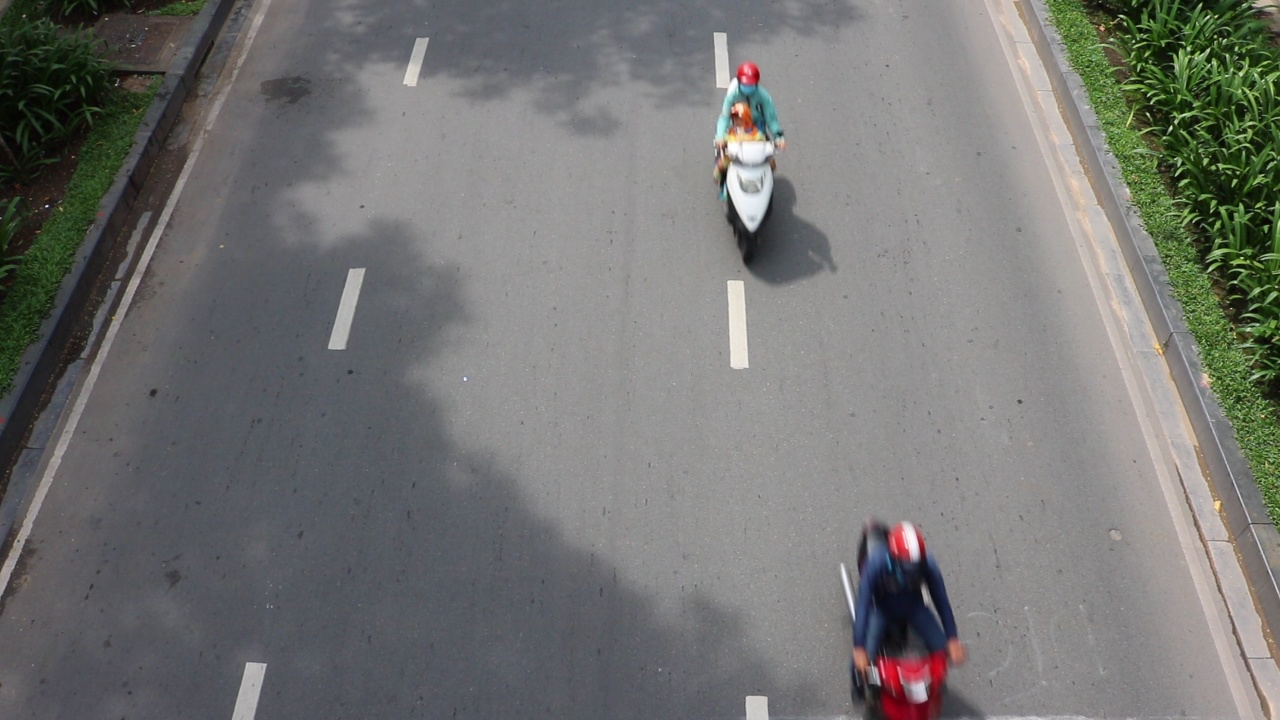motorcycle: (714, 135, 783, 261)
